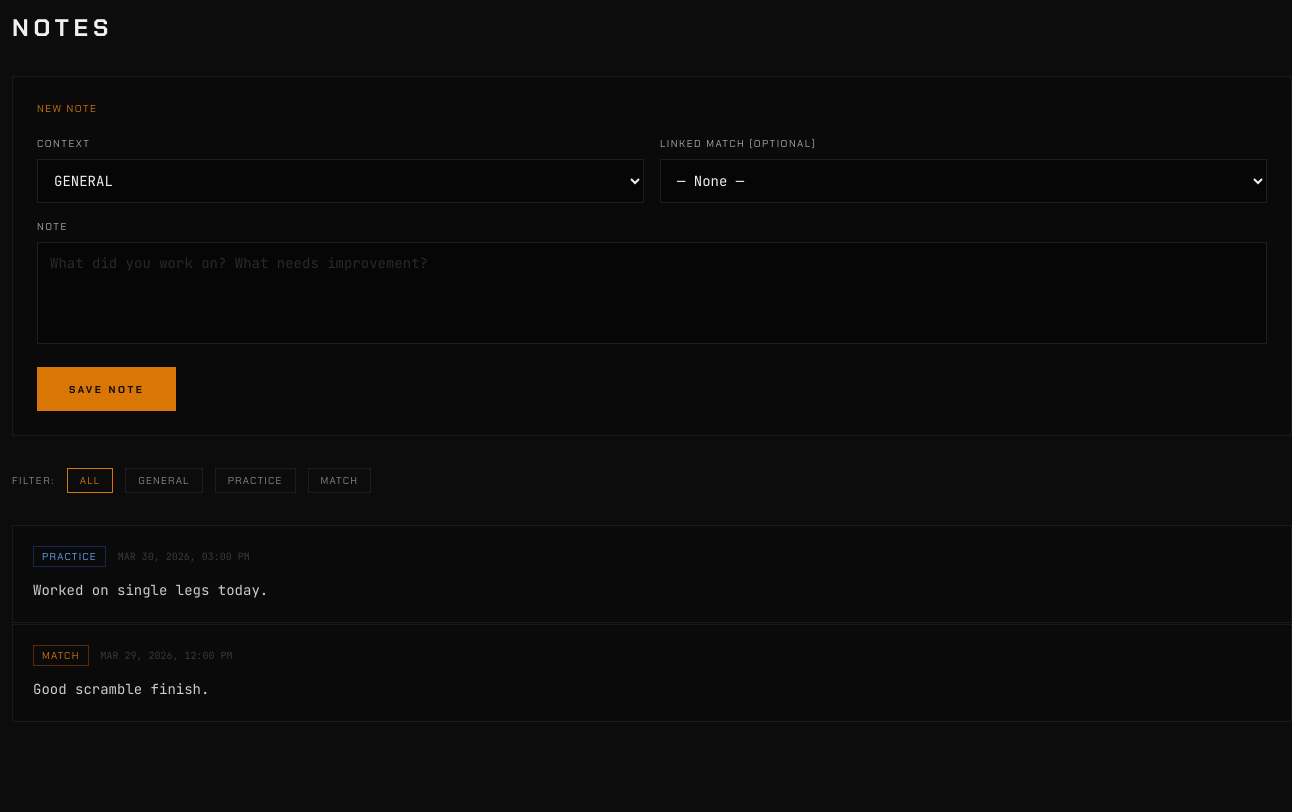
Scenario: Notes › happy path — filter by context works
The width and height of the screenshot is (1292, 812).
Check: the text "Worked on single legs today." is shown, box [33,581,268,599]
Filter to match only
Click the button "MATCH". click: (339, 480)
box: [308,468,371,493]
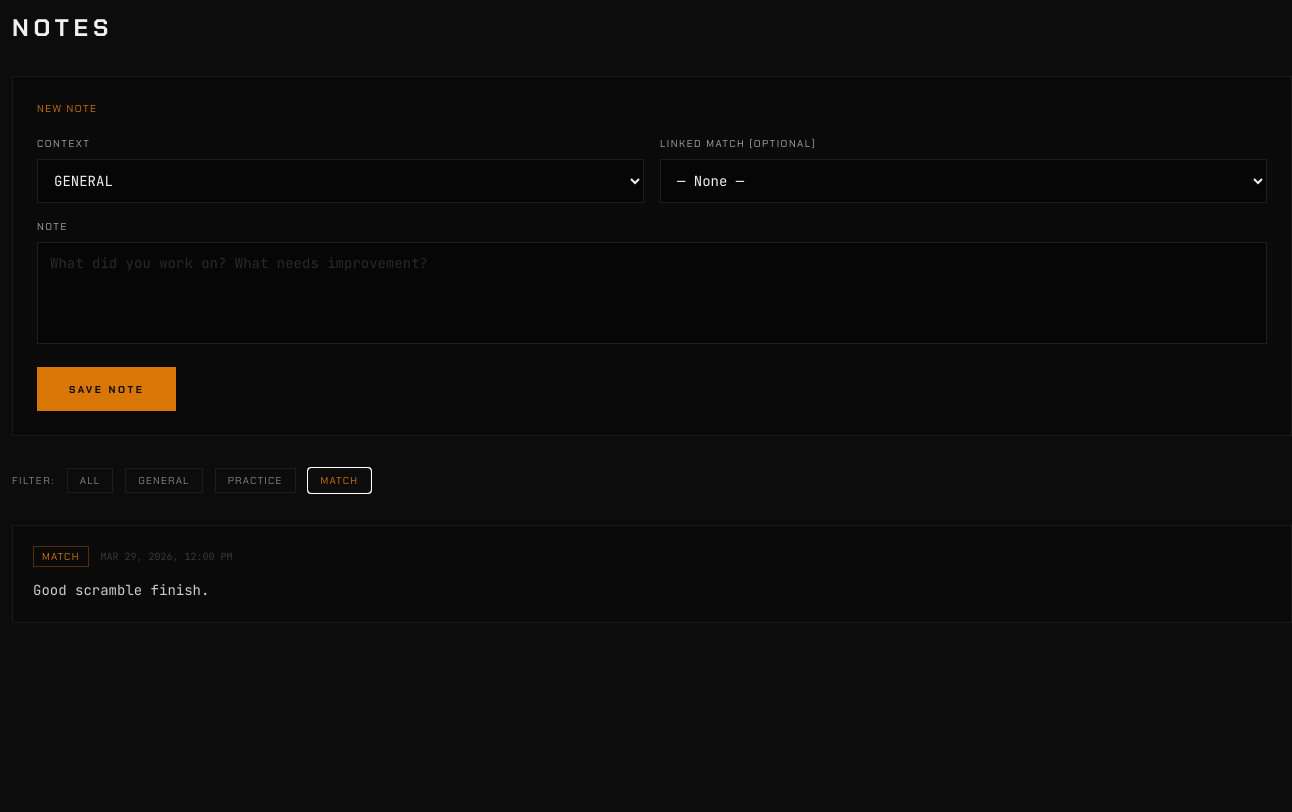
Check: the text "Good scramble finish." is shown, box [33,581,209,599]
Check: the text "Worked on single legs today." is gone
